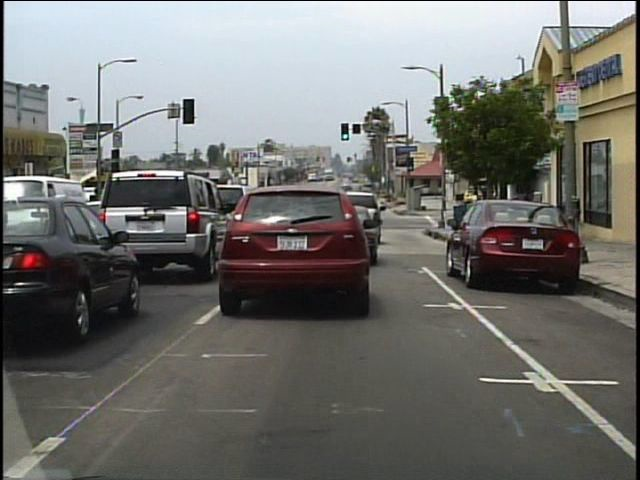person: (468, 195, 481, 241)
